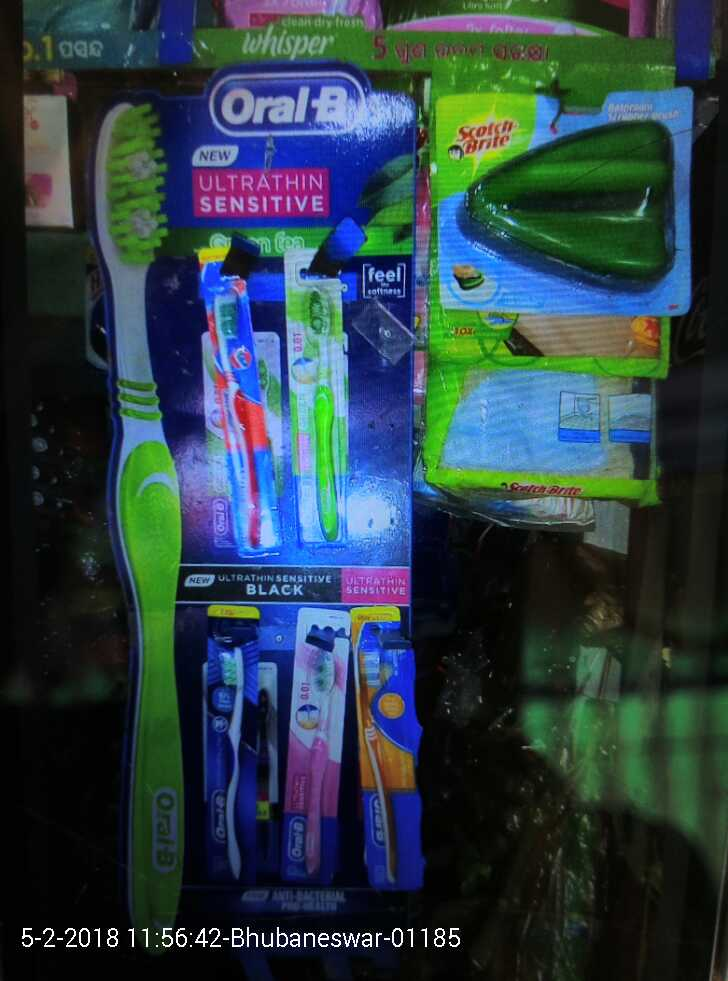oralb: (200, 280, 276, 556), (193, 612, 255, 883), (352, 636, 416, 889), (286, 285, 347, 543), (290, 619, 337, 880)
